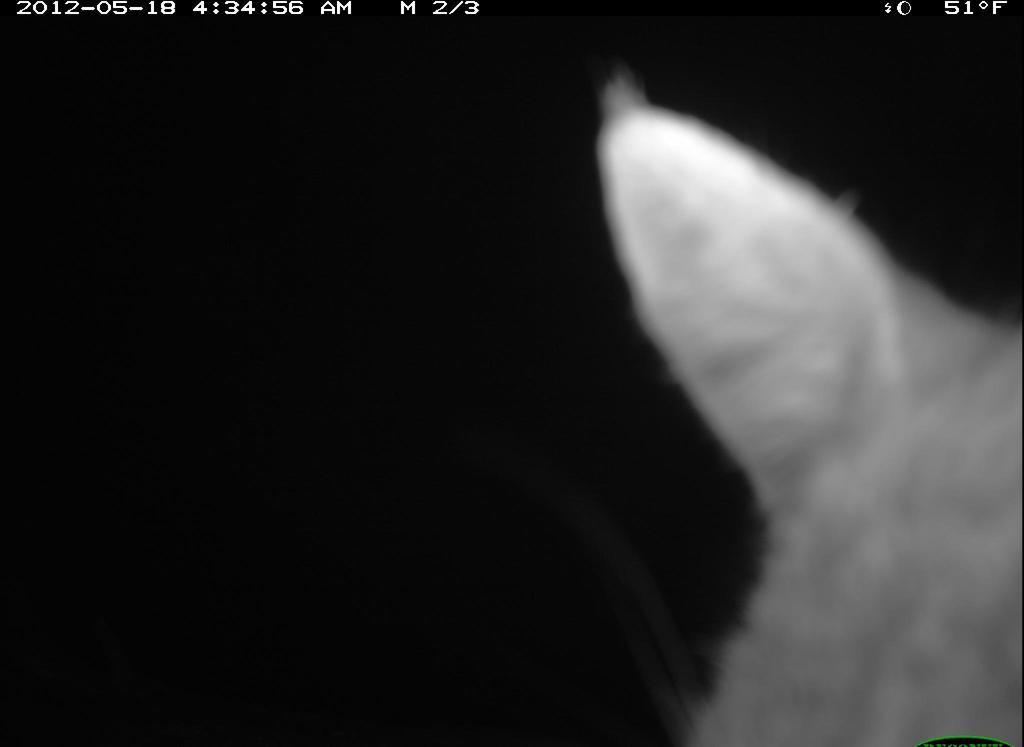bobcat: (569, 68, 1019, 747)
